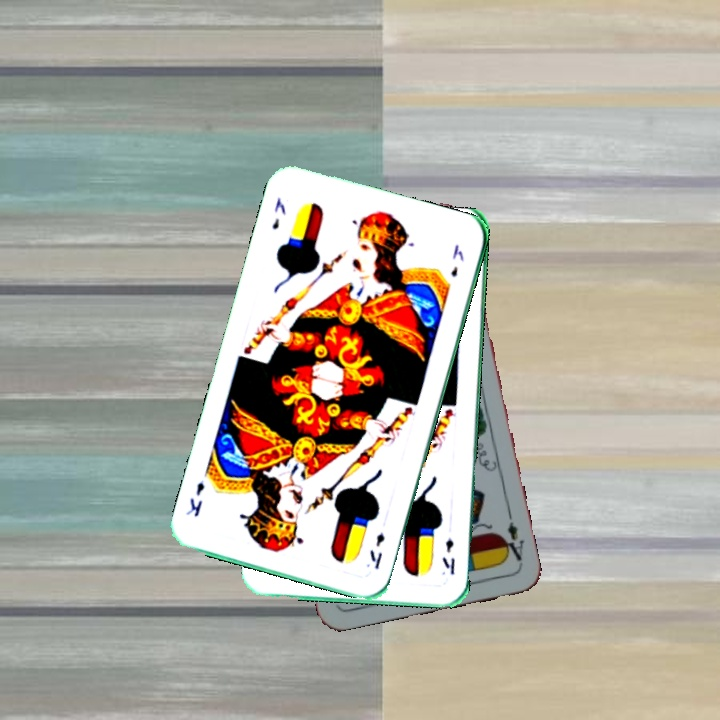EA: (498, 508, 527, 567)
EK: (365, 528, 388, 572), (267, 193, 289, 232), (438, 533, 457, 577)
